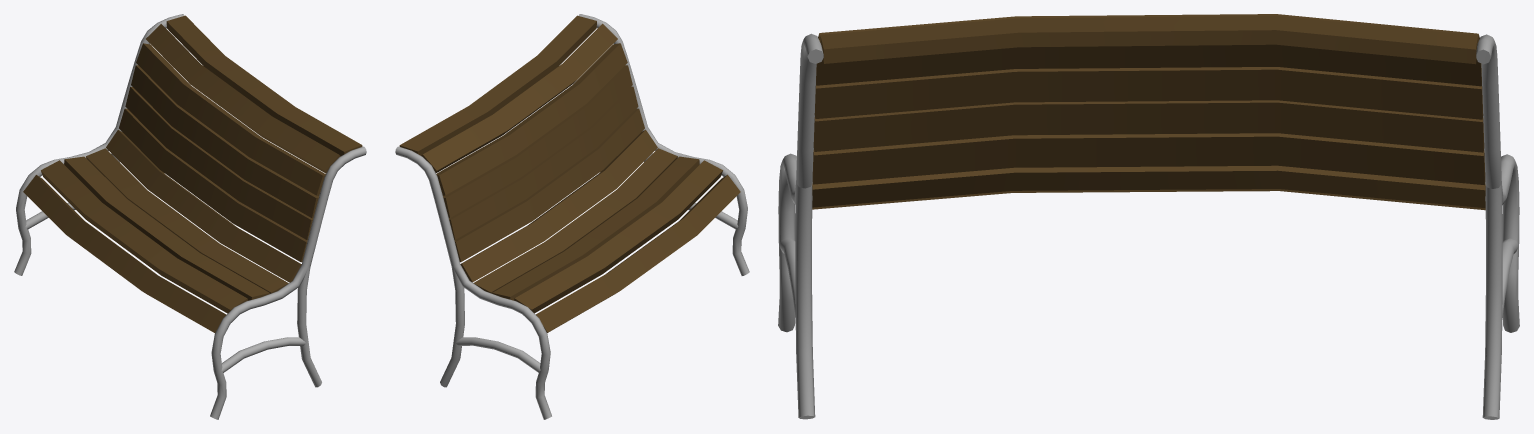
Rendered from EP_ENV_bench.fbx.
3 views of the same model, side by side, from view 1: azimuth 30°, elevation 25°; view 2: azimuth 150°, elevation 25°; view 3: azimuth 270°, elevation 25° (orthographic). The views are drawn at different scales.
Visible parts, largest first — view 1: EP_ENV_bench; view 2: EP_ENV_bench; view 3: EP_ENV_bench.
Boxes of the visible parts, x1=… form: EP_ENV_bench: x1=14, y1=14, x2=366, y2=419; EP_ENV_bench: x1=395, y1=14, x2=749, y2=419; EP_ENV_bench: x1=778, y1=14, x2=1519, y2=419.
Size of the model in its own units: 83.73 by 109 by 171.
